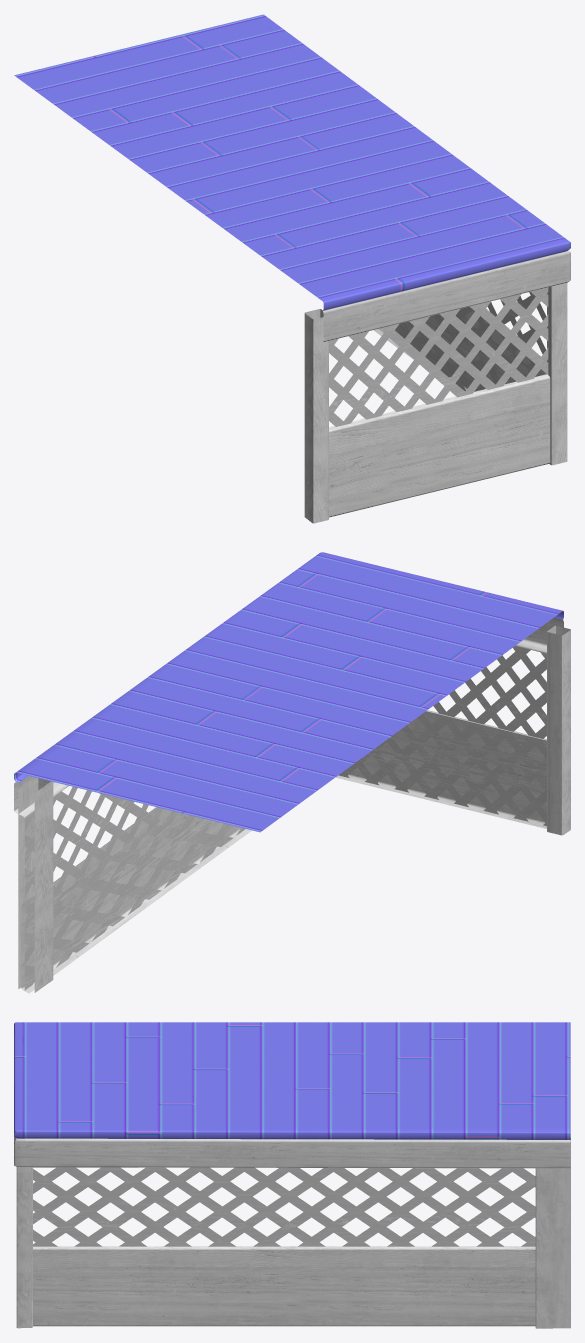
3 renders of one model, top to bottom at view 1: azimuth 30°, elevation 25°; view 2: azimuth 150°, elevation 25°; view 3: azimuth 270°, elevation 25°, orthographic. The views are drawn at different scales.
Visible parts, largest first — view 1: Base_B2; view 2: Base_B2; view 3: Base_B2.
Part boxes in pixels (x1=…): Base_B2: x1=14, y1=14, x2=570, y2=523; Base_B2: x1=14, y1=552, x2=570, y2=993; Base_B2: x1=14, y1=1022, x2=570, y2=1328.
Size of the model in its own units: 146 by 119 by 300.
